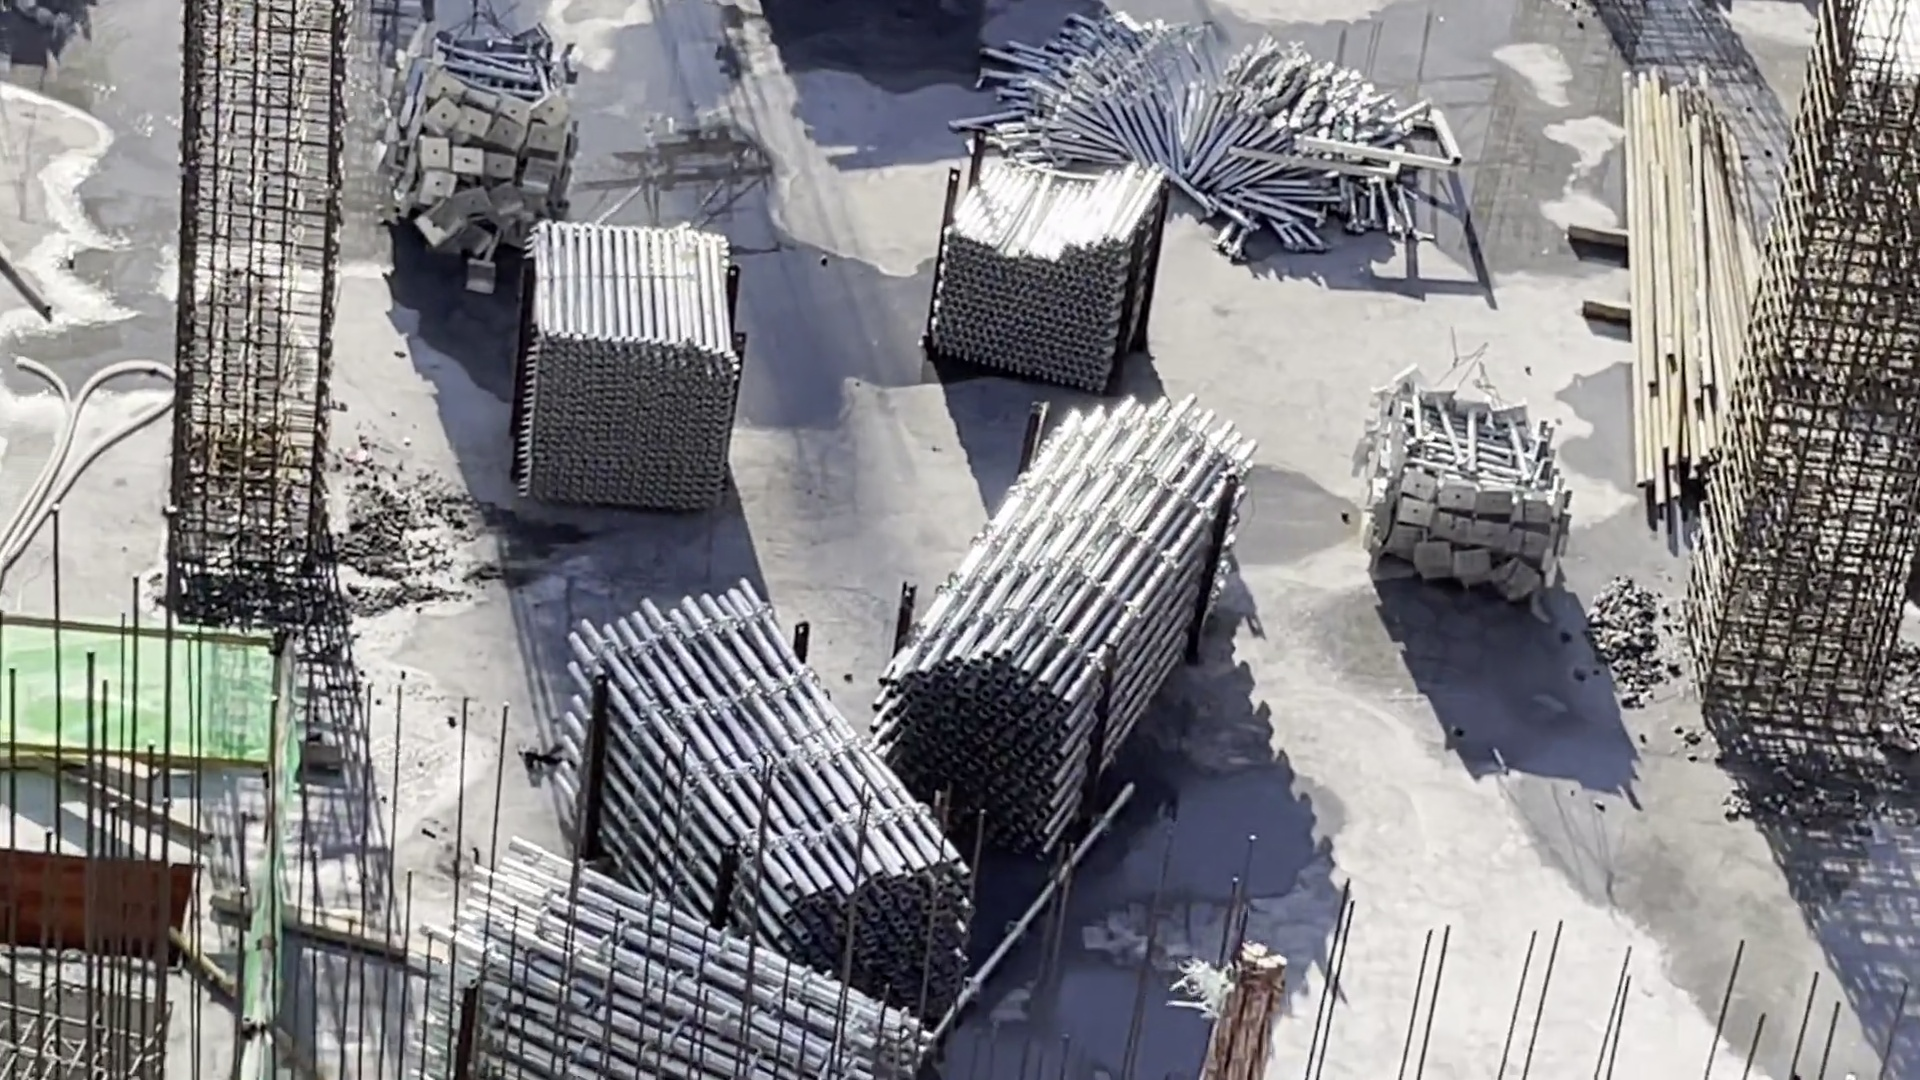scaffold: (885, 409, 1238, 847), (568, 595, 986, 952), (440, 847, 903, 1080), (986, 9, 1433, 241), (518, 212, 729, 498), (932, 146, 1168, 386), (1357, 386, 1576, 597), (390, 36, 582, 262)
